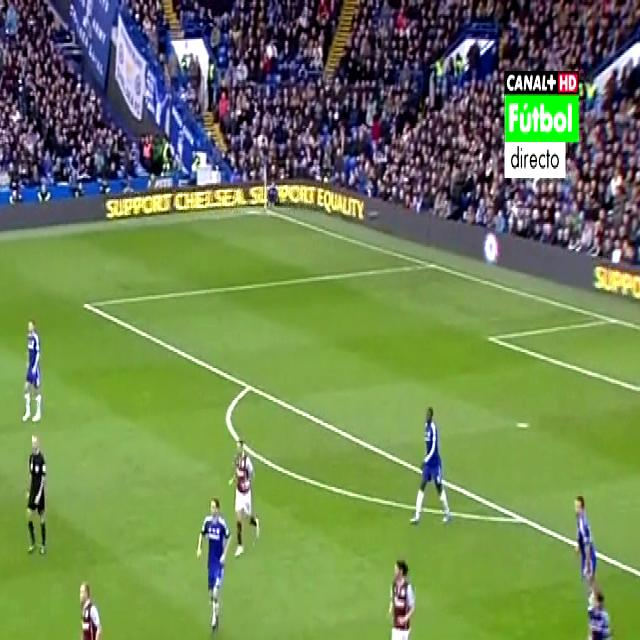referee: (20, 425, 54, 557)
soccer-player: (407, 397, 458, 527), (190, 494, 231, 638), (224, 427, 264, 563), (569, 486, 608, 596), (15, 308, 48, 429), (382, 546, 418, 640), (580, 565, 625, 640), (61, 574, 106, 640)
